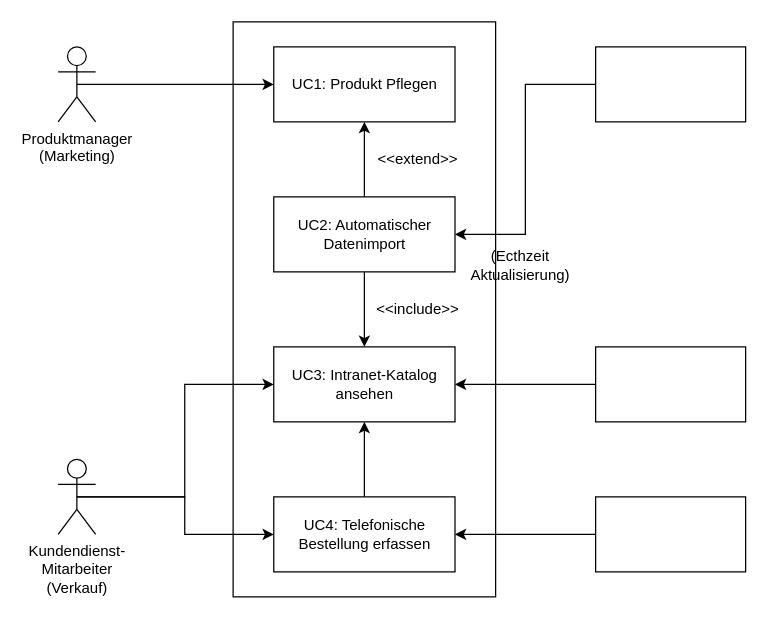
Some shapes in this 768 by 619 pixel diagram are drawn without their labels. The shapes that lost their labels are listed below. From the top down, each one's centre as x and y in pixels, then its label:
the point at 670,84: Externe Lieferanten Schnittstellen
the point at 670,384: Intranet-Webserver (Zentrale Ablage)
the point at 670,534: ERP-System (Zentrale DB / Auftragsbuchung)
